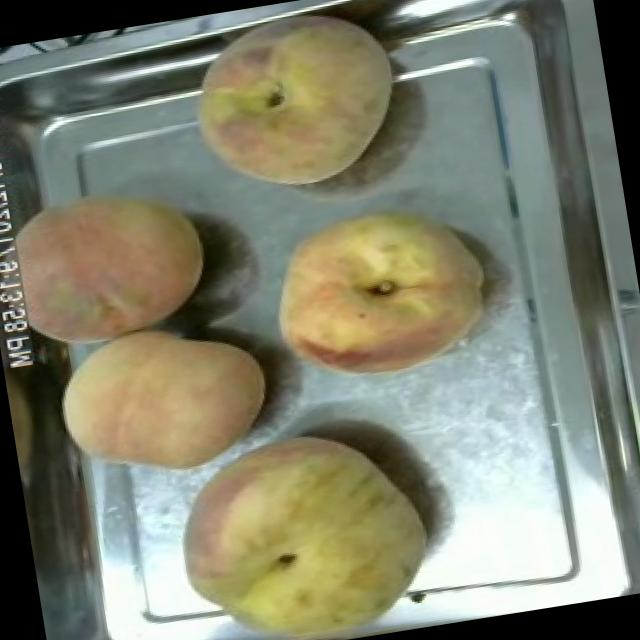Fruit: (156, 402, 451, 640), (254, 182, 506, 401), (168, 0, 415, 210), (39, 305, 288, 500), (0, 165, 226, 367)
